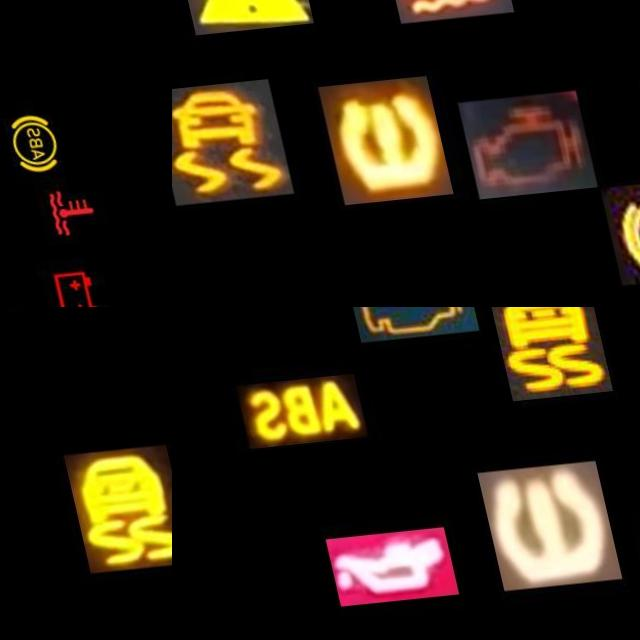Central Warning lamp: (172, 0, 306, 36)
Engine cooling system: (371, 0, 505, 29)
High Engine Coolant Temperature: (16, 183, 88, 248)
